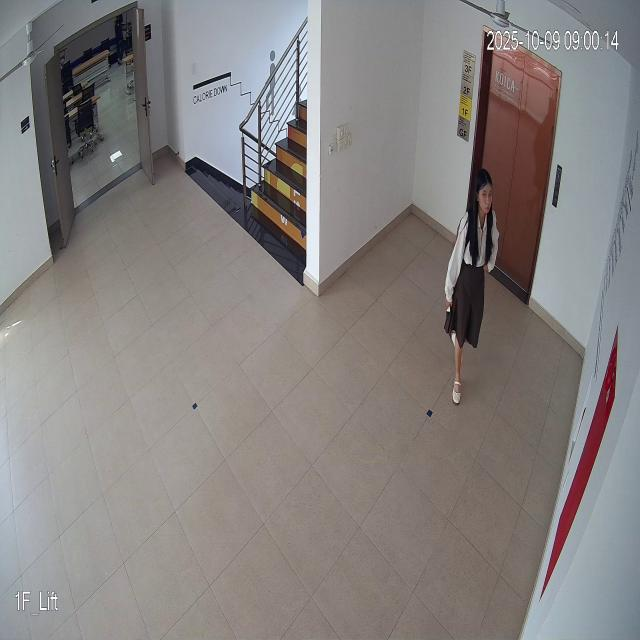face: (472, 158, 495, 221)
